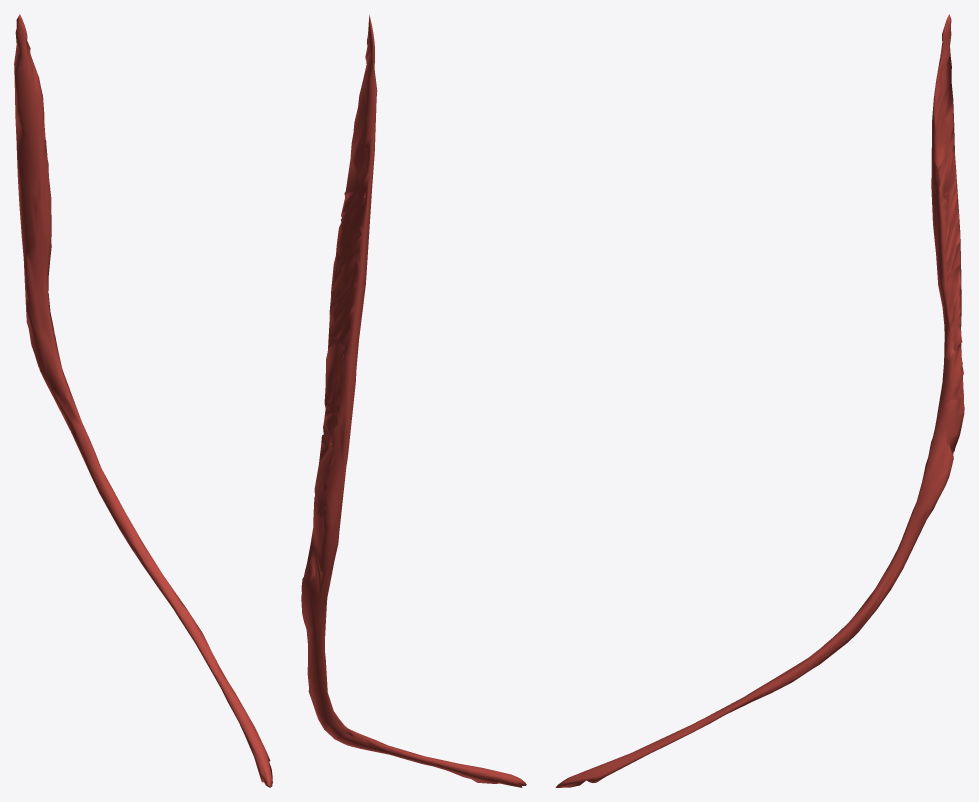
File: musculos-extensor-hallucis-longus-r.glb
3 views of the same model, side by side, from view 1: azimuth 30°, elevation 25°; view 2: azimuth 150°, elevation 25°; view 3: azimuth 270°, elevation 25° (orthographic). The views are drawn at different scales.
Visible parts, largest first — view 1: Extensor hallucis longus.r; view 2: Extensor hallucis longus.r; view 3: Extensor hallucis longus.r.
Boxes of the visible parts, x1,y1,x2,y2 form: Extensor hallucis longus.r: [14, 14, 272, 787]; Extensor hallucis longus.r: [301, 14, 526, 787]; Extensor hallucis longus.r: [555, 14, 964, 787].
Size of the model in its own units: 0.0427 by 0.2805 by 0.1417.
